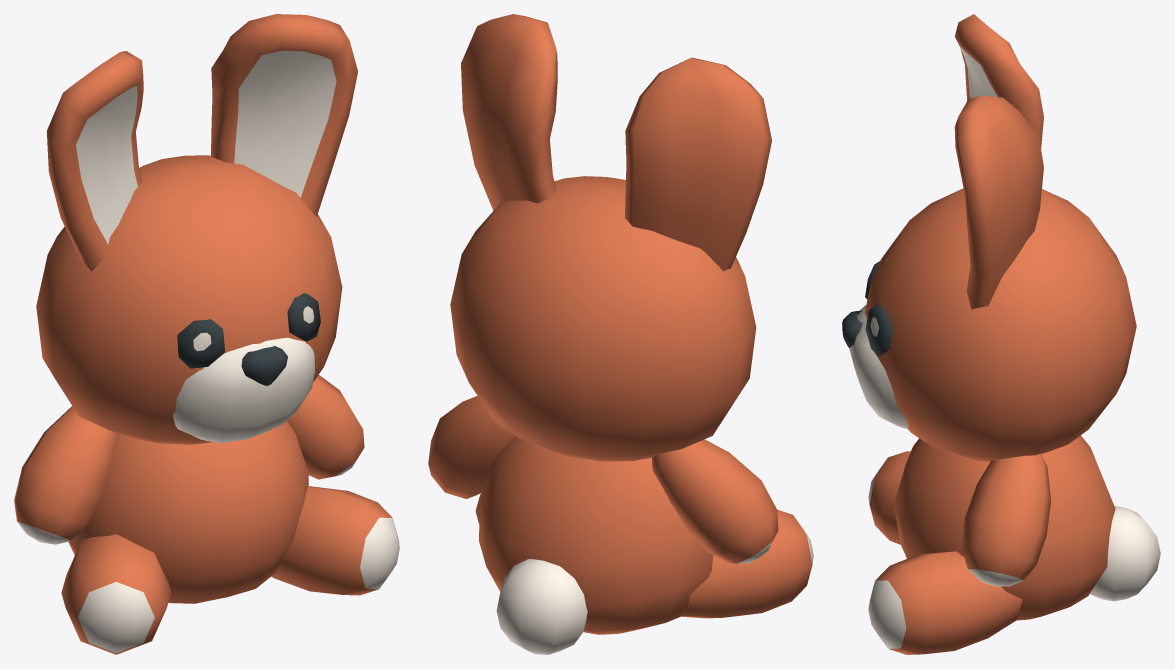
File: Bunny_Orange.fbx
3 renders of one model, left to right at view 1: azimuth 30°, elevation 25°; view 2: azimuth 150°, elevation 25°; view 3: azimuth 270°, elevation 25°, orthographic. The views are drawn at different scales.
Visible parts, largest first — view 1: Bunny_Orange; view 2: Bunny_Orange; view 3: Bunny_Orange.
Boxes of the visible parts, <box> form: Bunny_Orange: <box>14,14,399,654</box>; Bunny_Orange: <box>428,14,813,654</box>; Bunny_Orange: <box>842,14,1160,654</box>.
Bounding box in the file's own units: 4.28 × 6.81 × 3.62.
